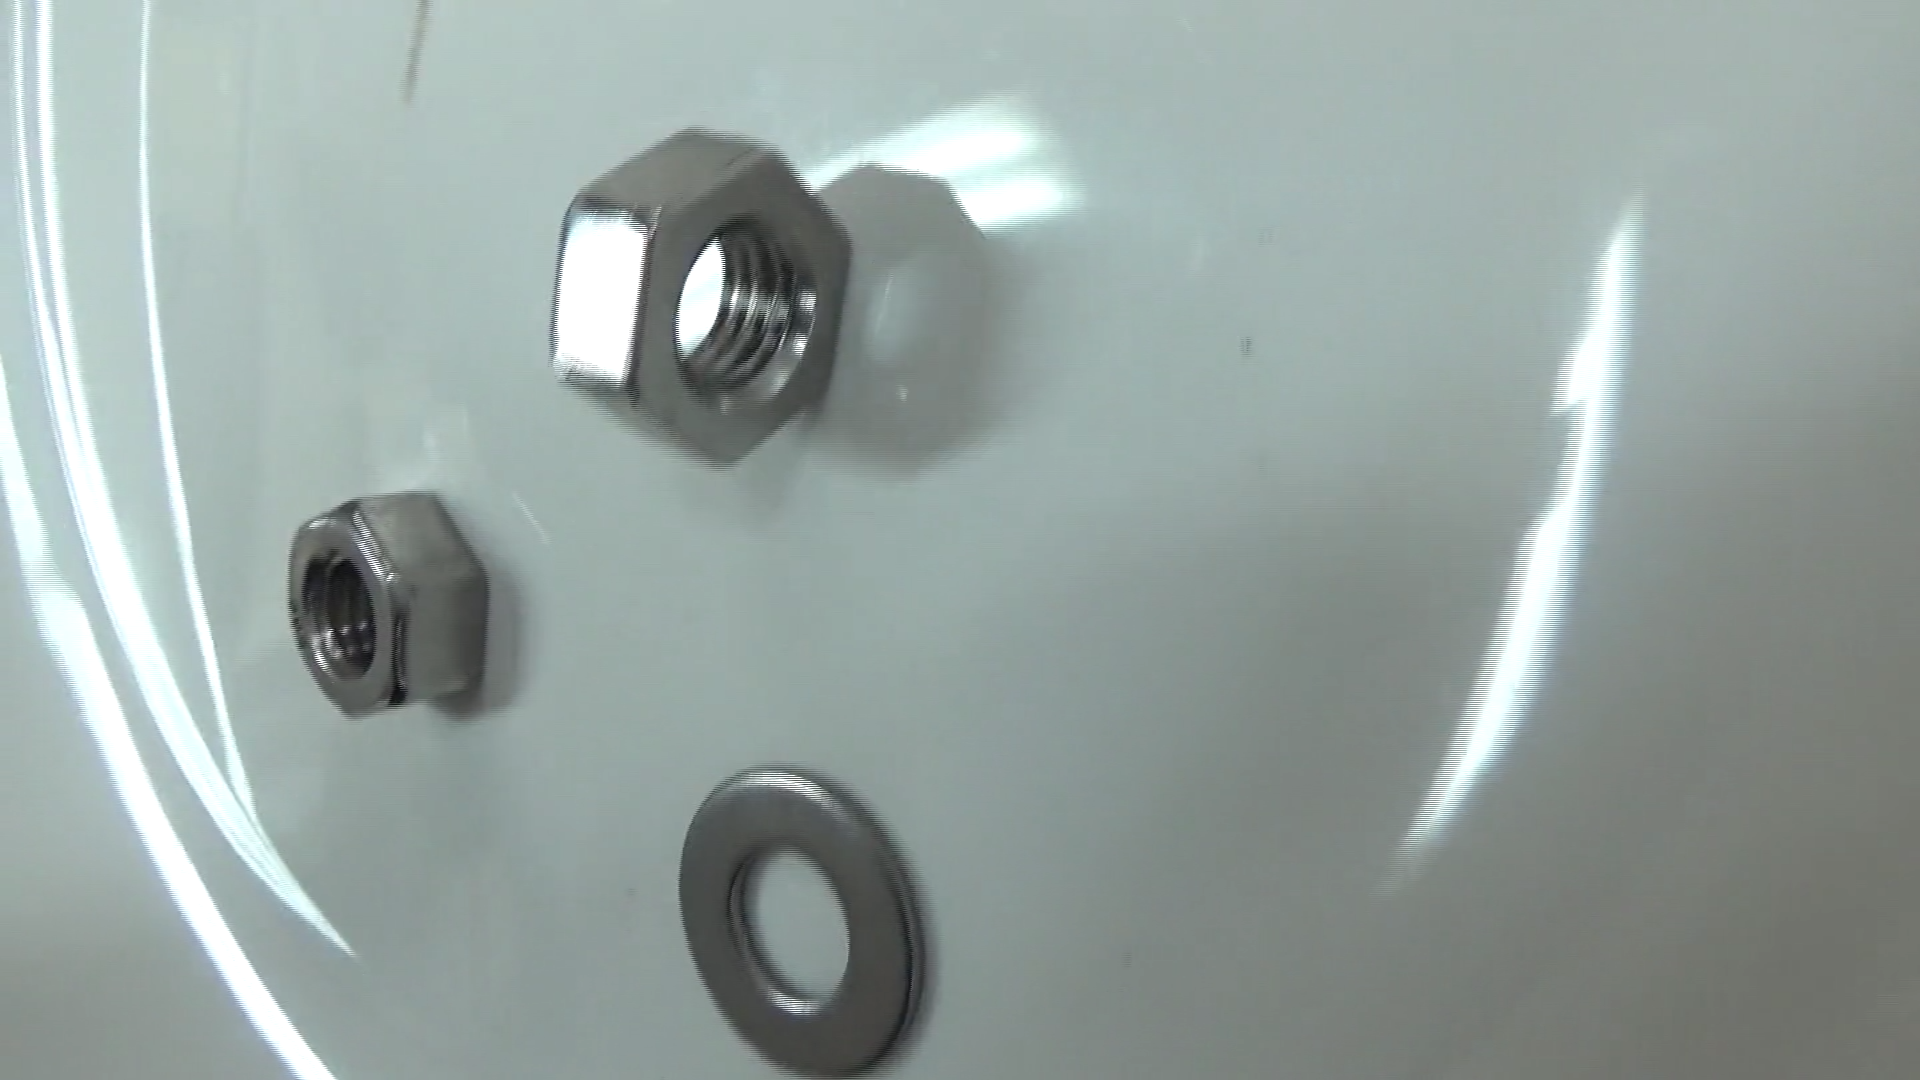nut: (525, 100, 881, 487), (244, 477, 512, 738)
washer: (628, 752, 971, 1080)
